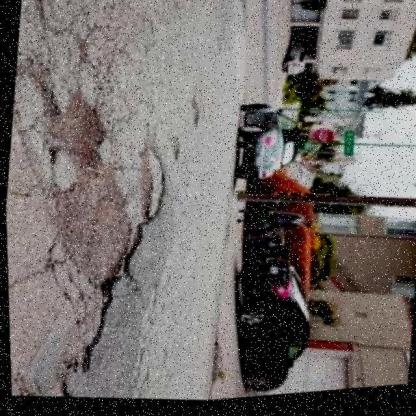pothole: (54, 141, 172, 313)
